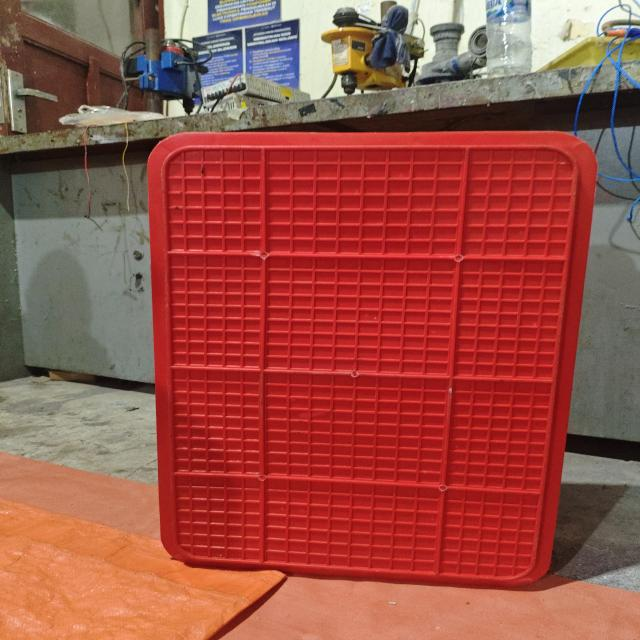red plastic box: (147, 131, 598, 588)
